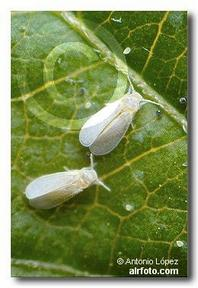whitefly: (79, 71, 161, 156), (24, 152, 110, 211)
